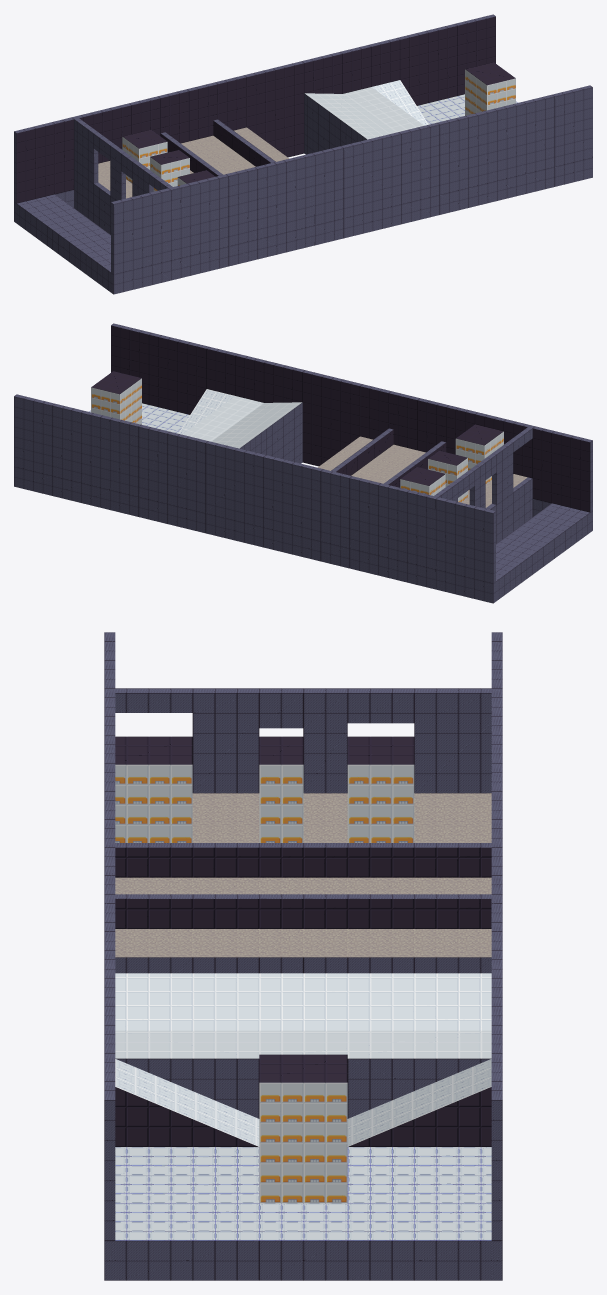
File: Module_3.fbx
3 renders of one model, top to bottom at view 1: azimuth 30°, elevation 25°; view 2: azimuth 150°, elevation 25°; view 3: azimuth 270°, elevation 25°, orthographic. The views are drawn at different scales.
Visible parts, largest first — view 1: Module_3; view 2: Module_3; view 3: Module_3.
Part boxes in pixels (x1=…): Module_3: x1=14, y1=14, x2=592, y2=294; Module_3: x1=14, y1=323, x2=592, y2=603; Module_3: x1=104, y1=632, x2=502, y2=1280.
Size of the model in its own units: 5000 by 900 by 1800.
7 materials, 7 textured.
